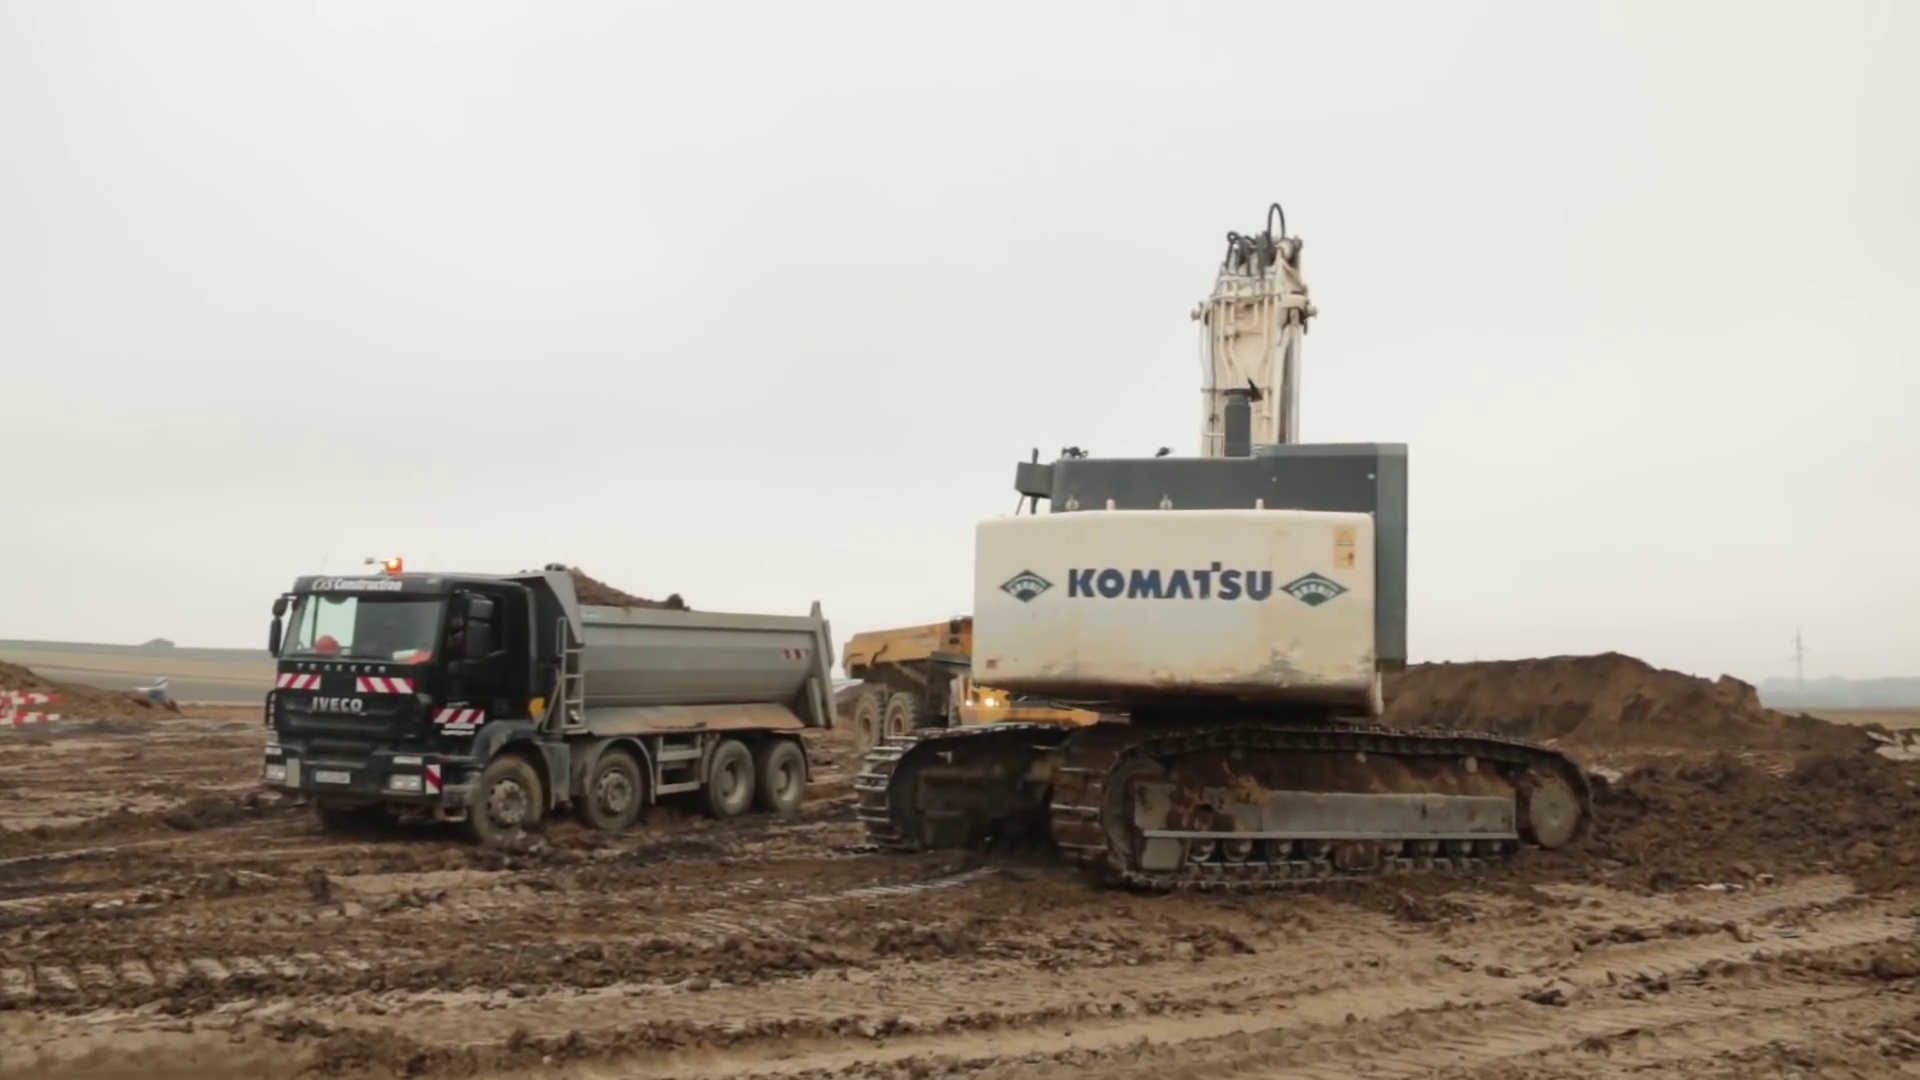dumper: (847, 618, 1084, 732)
excavator: (857, 196, 1602, 894)
truck: (261, 560, 839, 819)
